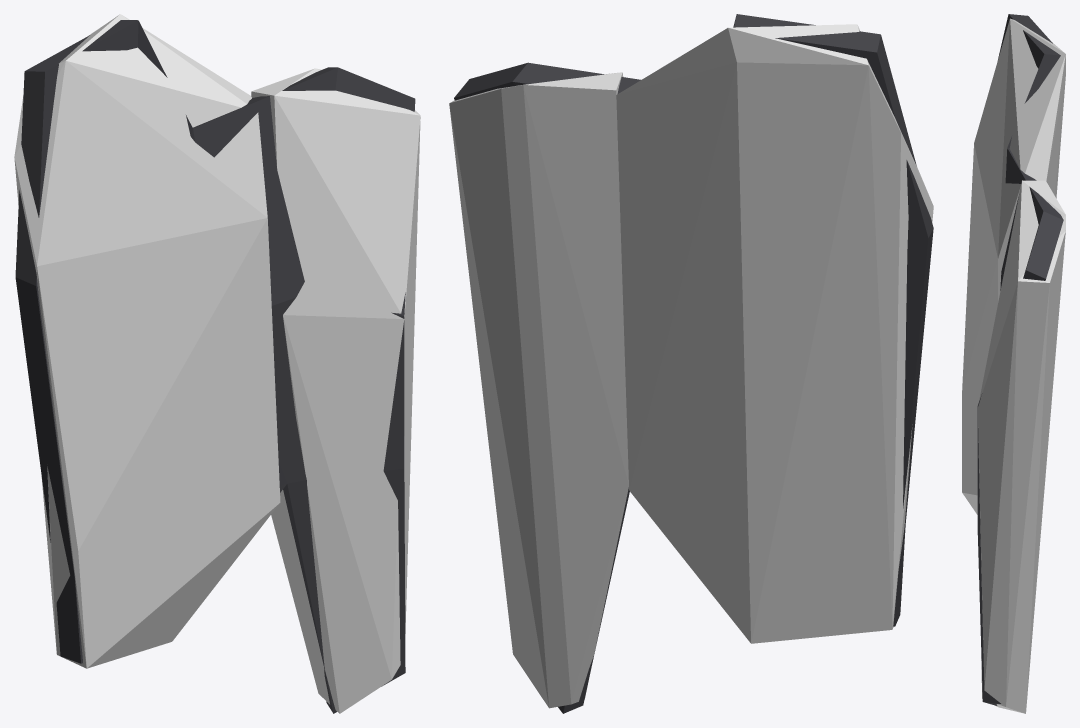
Rendered from SM_Env_Debris_Shell_08.fbx.
3 views of the same model, side by side, from view 1: azimuth 30°, elevation 25°; view 2: azimuth 150°, elevation 25°; view 3: azimuth 270°, elevation 25° (orthographic). The views are drawn at different scales.
Parts seen in each view (by area): view 1: SM_Env_Debris_Shell_08_ConvexHulls, SM_Env_Debris_Shell_08_LOD0; view 2: SM_Env_Debris_Shell_08_ConvexHulls, SM_Env_Debris_Shell_08_LOD0; view 3: SM_Env_Debris_Shell_08_ConvexHulls, SM_Env_Debris_Shell_08_LOD0.
Boxes of the visible parts, x1,y1,x2,y2 form: SM_Env_Debris_Shell_08_ConvexHulls: (14,14,420,713); SM_Env_Debris_Shell_08_LOD0: (15,20,415,713); SM_Env_Debris_Shell_08_ConvexHulls: (449,24,933,708); SM_Env_Debris_Shell_08_LOD0: (454,14,933,713); SM_Env_Debris_Shell_08_ConvexHulls: (962,18,1065,713); SM_Env_Debris_Shell_08_LOD0: (977,14,1063,705).
Size of the model in its own units: 97.89 by 376 by 610.
Materials: 1 (1 with a texture image).
